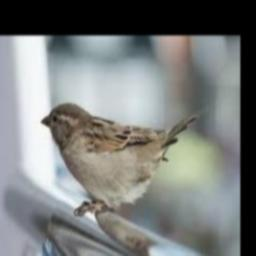Sparrow: (41, 104, 202, 216)
